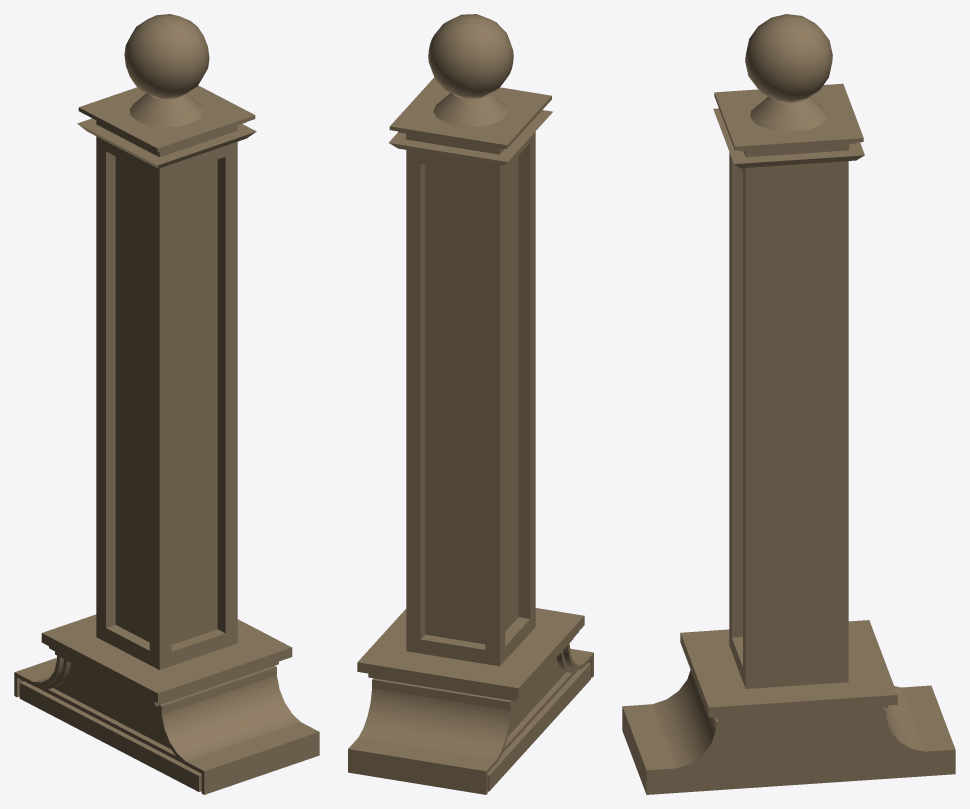
File: EntranceColumn.obj
The picture shows the model from 3 angles, left to right: view 1: azimuth 30°, elevation 25°; view 2: azimuth 150°, elevation 25°; view 3: azimuth 270°, elevation 25°; orthographic projection. The views are drawn at different scales.
Bounding box in the file's own units: 1.01 × 3.95 × 1.63.
